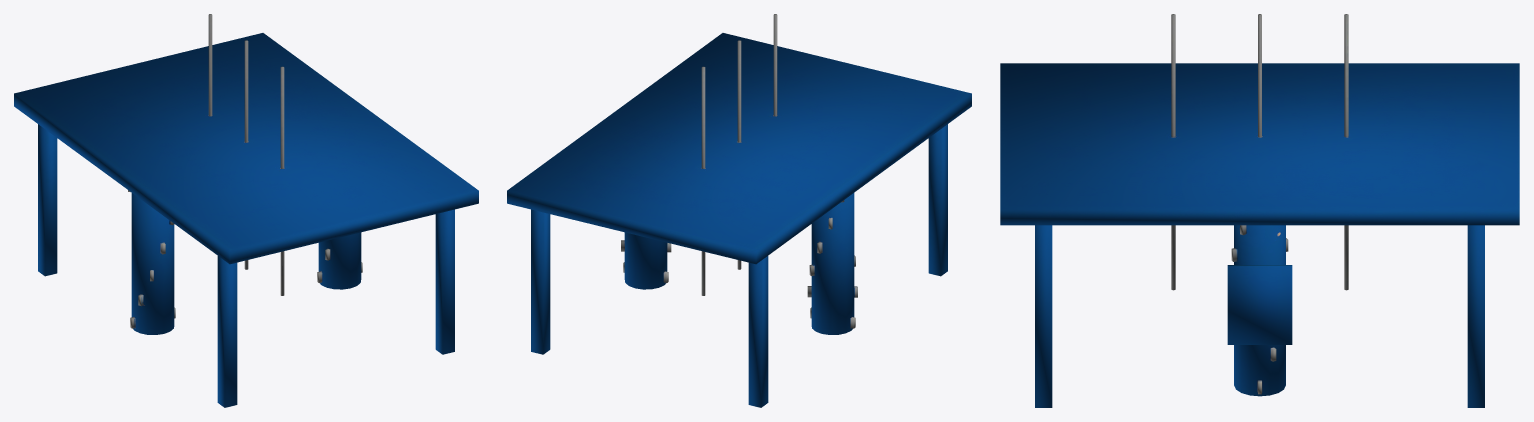
The model's file is yard-truck-wash-body-tripo-original.glb.
The picture shows the model from 3 angles, left to right: view 1: azimuth 30°, elevation 25°; view 2: azimuth 150°, elevation 25°; view 3: azimuth 270°, elevation 25°; orthographic projection. The views are drawn at different scales.
Parts seen in each view (by area): view 1: Authored_surface_152; view 2: Authored_surface_152; view 3: Authored_surface_152.
Boxes of the visible parts, x1,y1,x2,y2 form: Authored_surface_152: [14, 14, 478, 407]; Authored_surface_152: [507, 14, 971, 407]; Authored_surface_152: [1000, 14, 1519, 407].
Bounding box in the file's own units: 0.7125 × 0.6917 × 1.
1 material, 1 textured.
